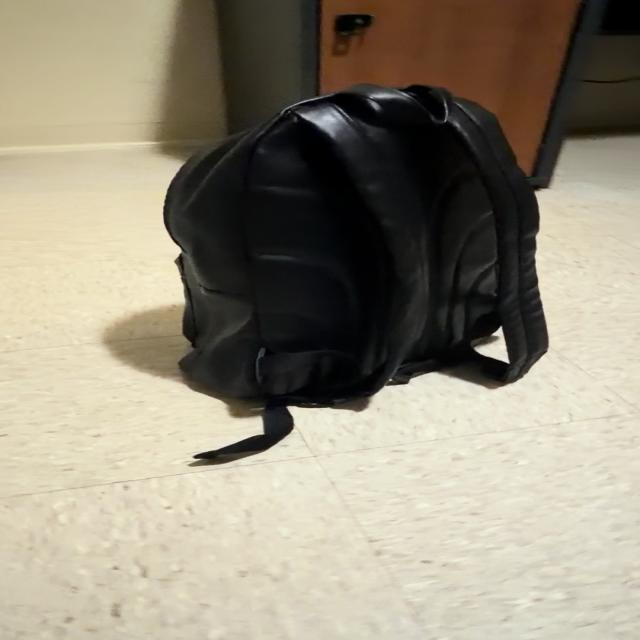backpack: (165, 86, 547, 458)
